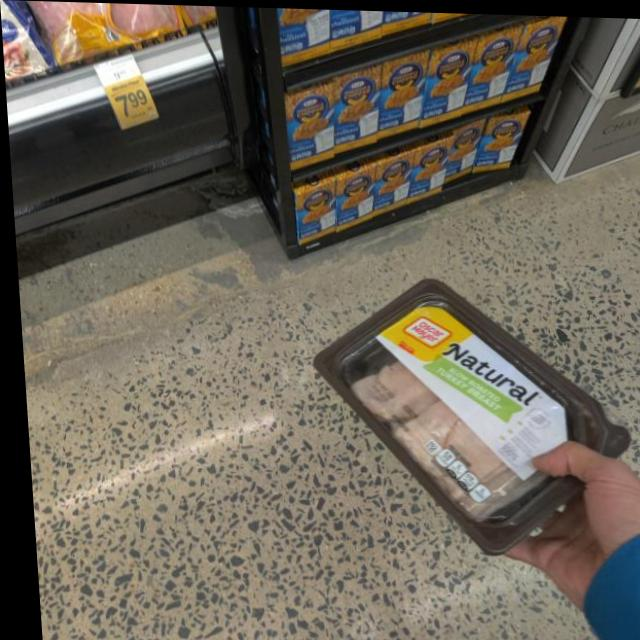Meat: (306, 272, 628, 553)
